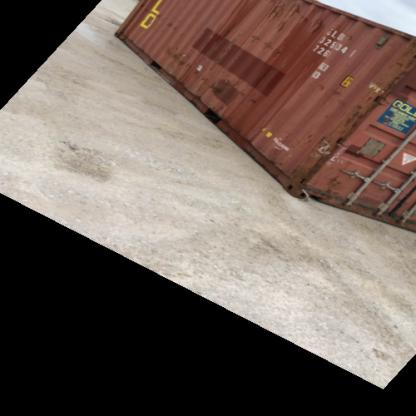Damage: (159, 42, 257, 113), (284, 130, 369, 197), (266, 0, 331, 41), (377, 40, 415, 108), (336, 102, 371, 129), (313, 74, 346, 101)
